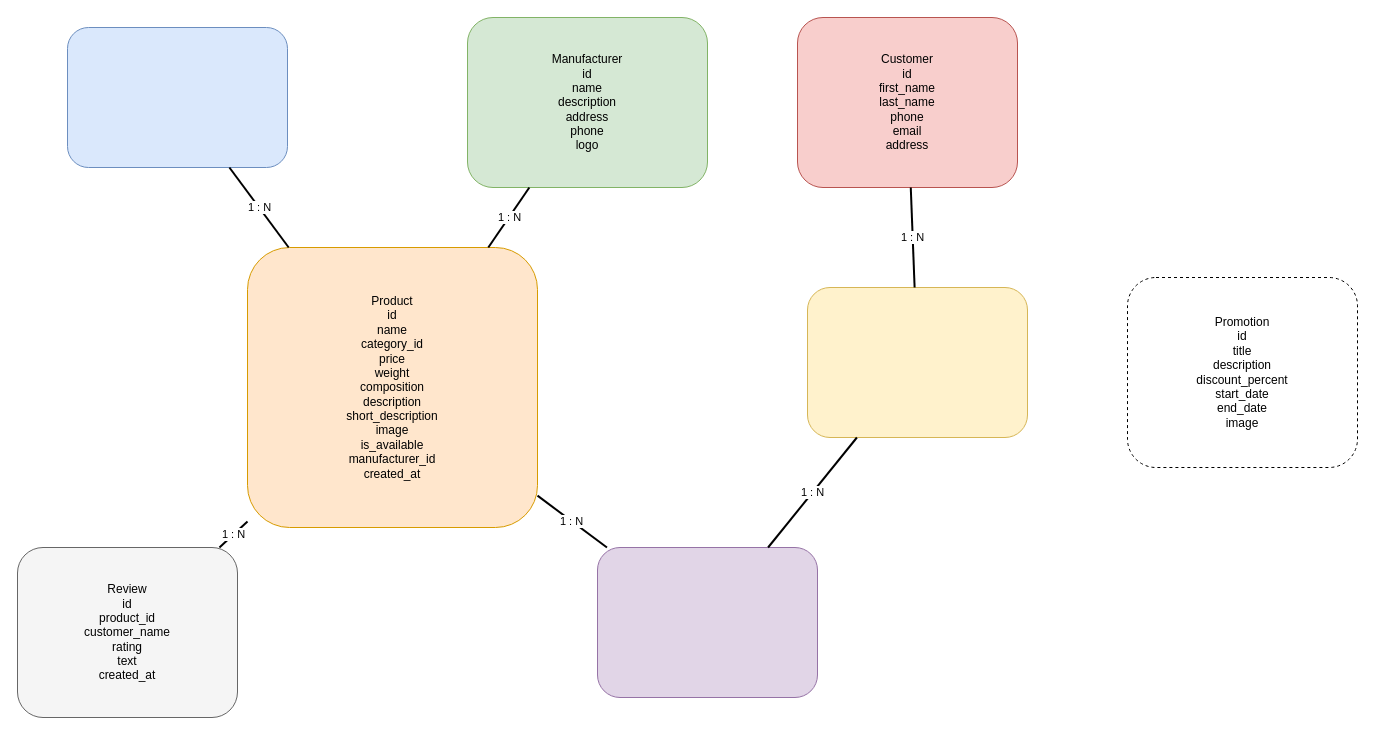
Some shapes in this 1375 by 735 pixel diagram are drawn without their labels. The shapes that lost their labels are listed below. From the top down, each one's centre as x and y in pixels, then its label:
At point (177, 97): "Category id name description image".
At point (917, 362): "Order id customer_id created_at status total_price".
At point (707, 622): "OrderItem id order_id product_id quantity price".
